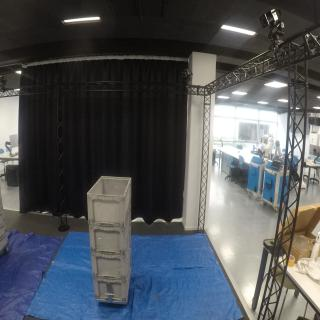Box4G: (87, 176, 134, 228), (88, 204, 134, 256), (91, 234, 134, 280), (93, 257, 135, 302)
